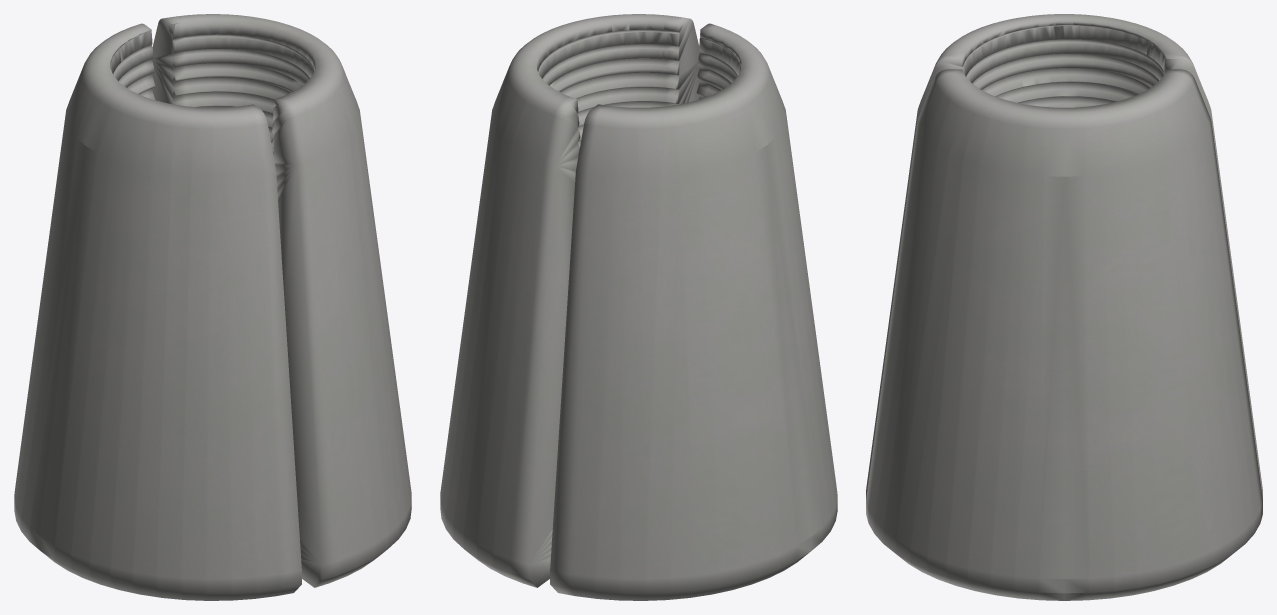
The model's file is Cunha.glb.
3 views of the same model, side by side, from view 1: azimuth 30°, elevation 25°; view 2: azimuth 150°, elevation 25°; view 3: azimuth 270°, elevation 25° (orthographic).
Visible parts, largest first — view 1: IfcBuildingElementProxy/Corte-extruso3[2], IfcBuildingElementProxy/Corte-extruso3[1]; view 2: IfcBuildingElementProxy/Corte-extruso3[2], IfcBuildingElementProxy/Corte-extruso3[1]; view 3: IfcBuildingElementProxy/Corte-extruso3[1], IfcBuildingElementProxy/Corte-extruso3[2].
Part boxes in pixels (x1,y1,x2,y2): IfcBuildingElementProxy/Corte-extruso3[2]: [14, 23, 301, 600]; IfcBuildingElementProxy/Corte-extruso3[1]: [152, 14, 411, 587]; IfcBuildingElementProxy/Corte-extruso3[2]: [550, 23, 837, 600]; IfcBuildingElementProxy/Corte-extruso3[1]: [440, 14, 700, 587]; IfcBuildingElementProxy/Corte-extruso3[1]: [866, 69, 1262, 600]; IfcBuildingElementProxy/Corte-extruso3[2]: [866, 14, 1262, 498].
Bounding box in the file's own units: 0.9521 × 1.21 × 0.9504.
1 material, 1 textured.
